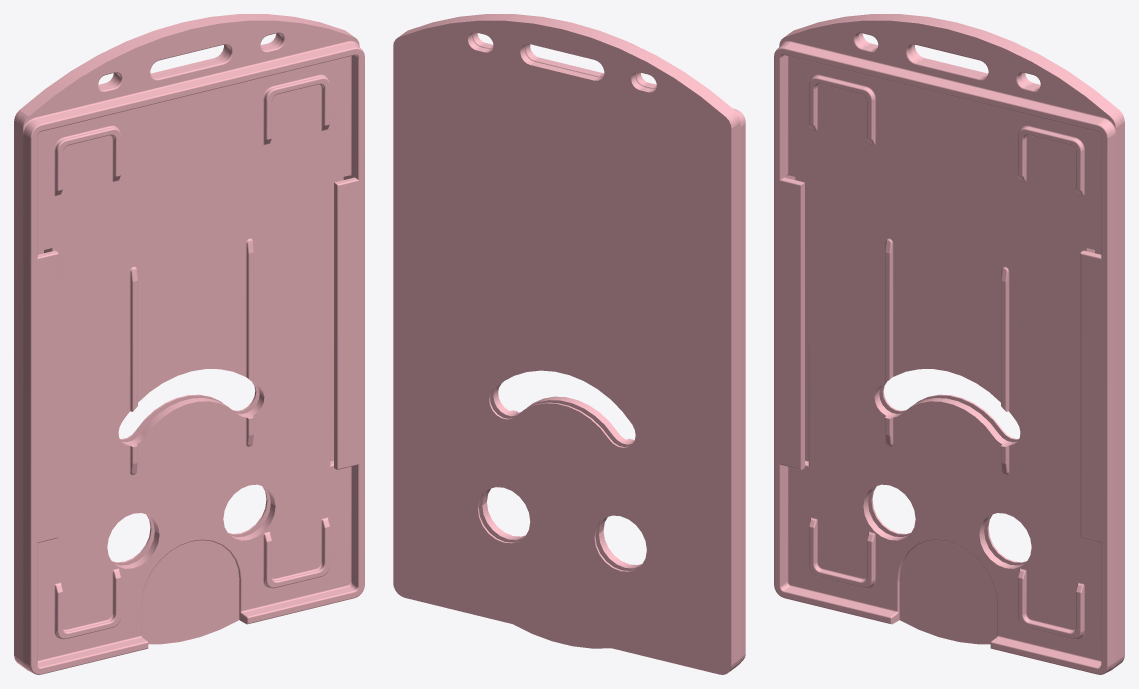
File: mesnap_strawberry_pink_old.glb
The picture shows the model from 3 angles, left to right: view 1: azimuth 30°, elevation 25°; view 2: azimuth 150°, elevation 25°; view 3: azimuth 330°, elevation 25°; orthographic projection.
Visible parts, largest first — view 1: 3f362596-a984-4295-8b26-834642958372; view 2: 3f362596-a984-4295-8b26-834642958372; view 3: 3f362596-a984-4295-8b26-834642958372.
Part boxes in pixels (x1=…): 3f362596-a984-4295-8b26-834642958372: x1=14, y1=14, x2=364, y2=674; 3f362596-a984-4295-8b26-834642958372: x1=393, y1=14, x2=745, y2=674; 3f362596-a984-4295-8b26-834642958372: x1=774, y1=14, x2=1124, y2=674.
Bounding box in the file's own units: 58.01 × 101 × 4.72.
